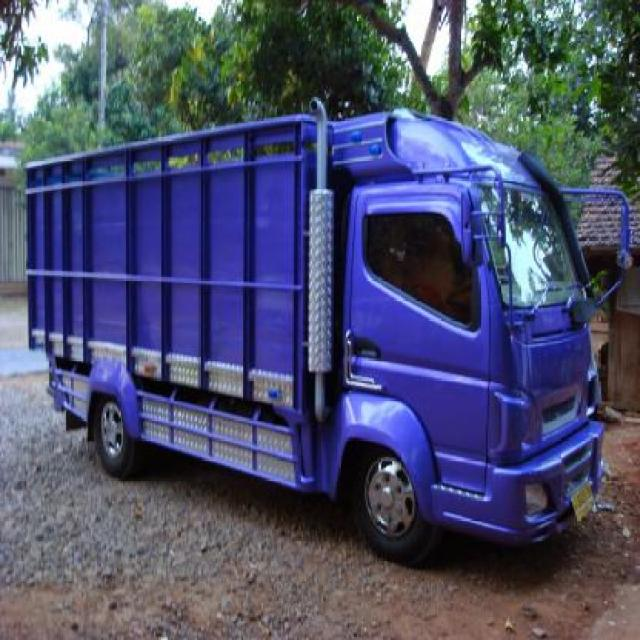truck: (26, 107, 637, 567)
